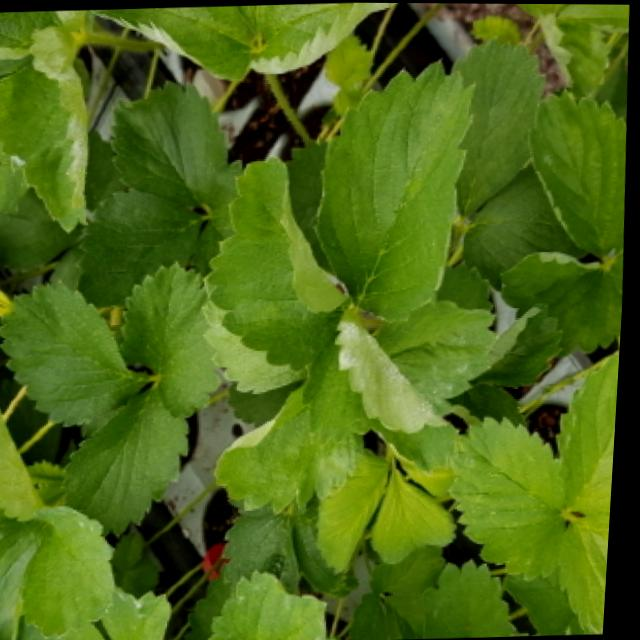Powdery Mildew Leaf: (305, 318, 467, 473), (0, 25, 92, 234), (375, 298, 509, 407), (496, 246, 626, 356), (88, 4, 255, 81), (251, 2, 398, 73), (213, 568, 334, 640), (474, 303, 567, 388), (536, 11, 609, 96), (0, 10, 60, 59), (557, 3, 629, 31), (29, 626, 88, 640)
